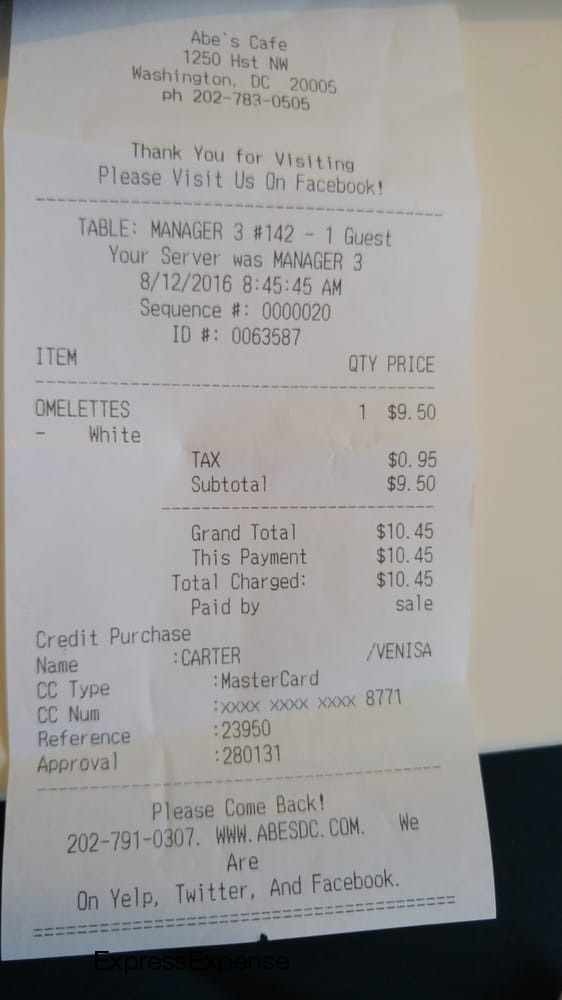Additional details: (1, 767, 485, 942)
Purchase summary: (7, 127, 461, 794)
Receipt: (1, 1, 501, 940)
Shop details: (22, 15, 455, 128)
